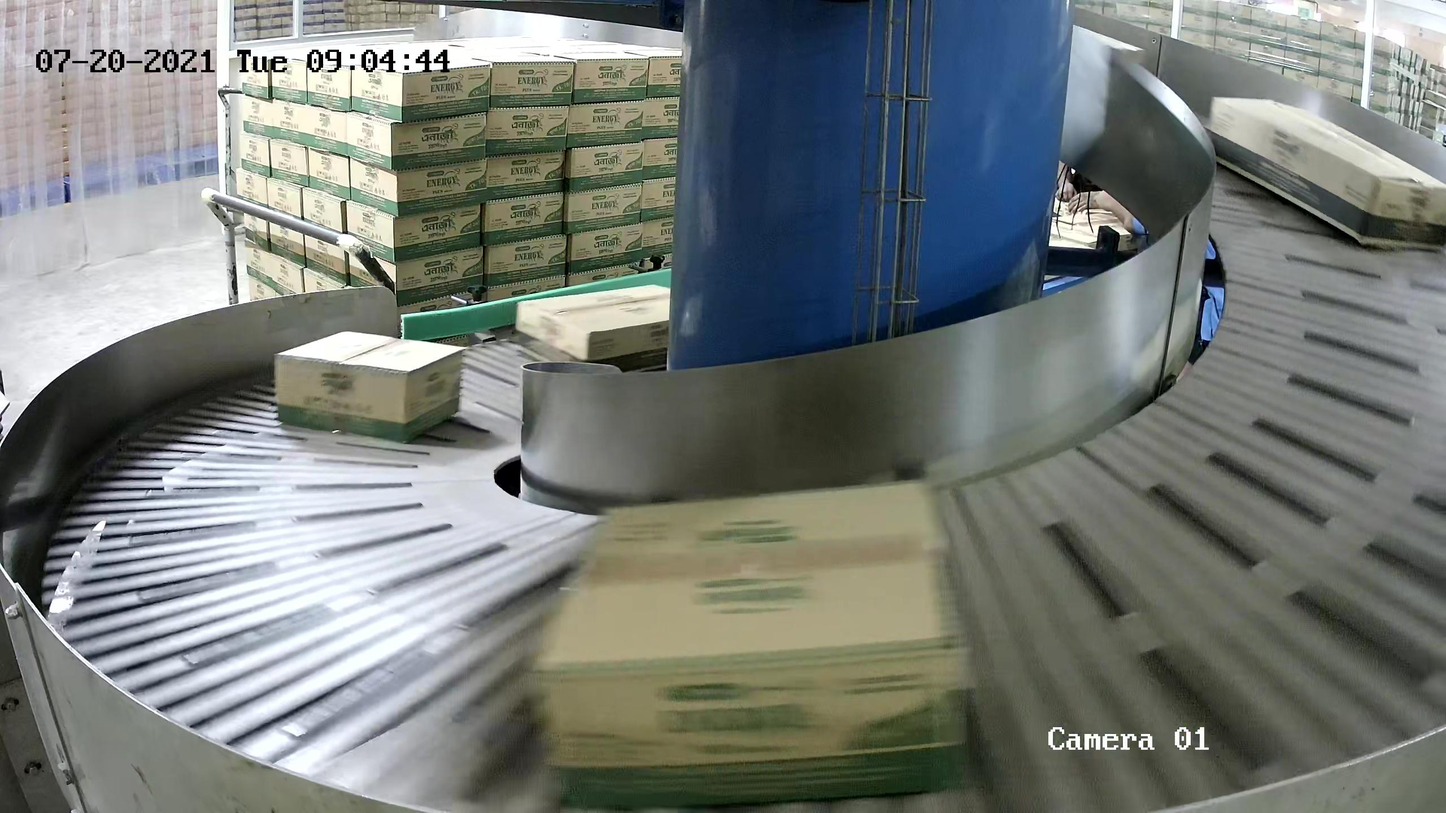Box: (529, 477, 974, 813), (1200, 94, 1446, 254), (272, 328, 464, 444), (514, 283, 716, 393)
